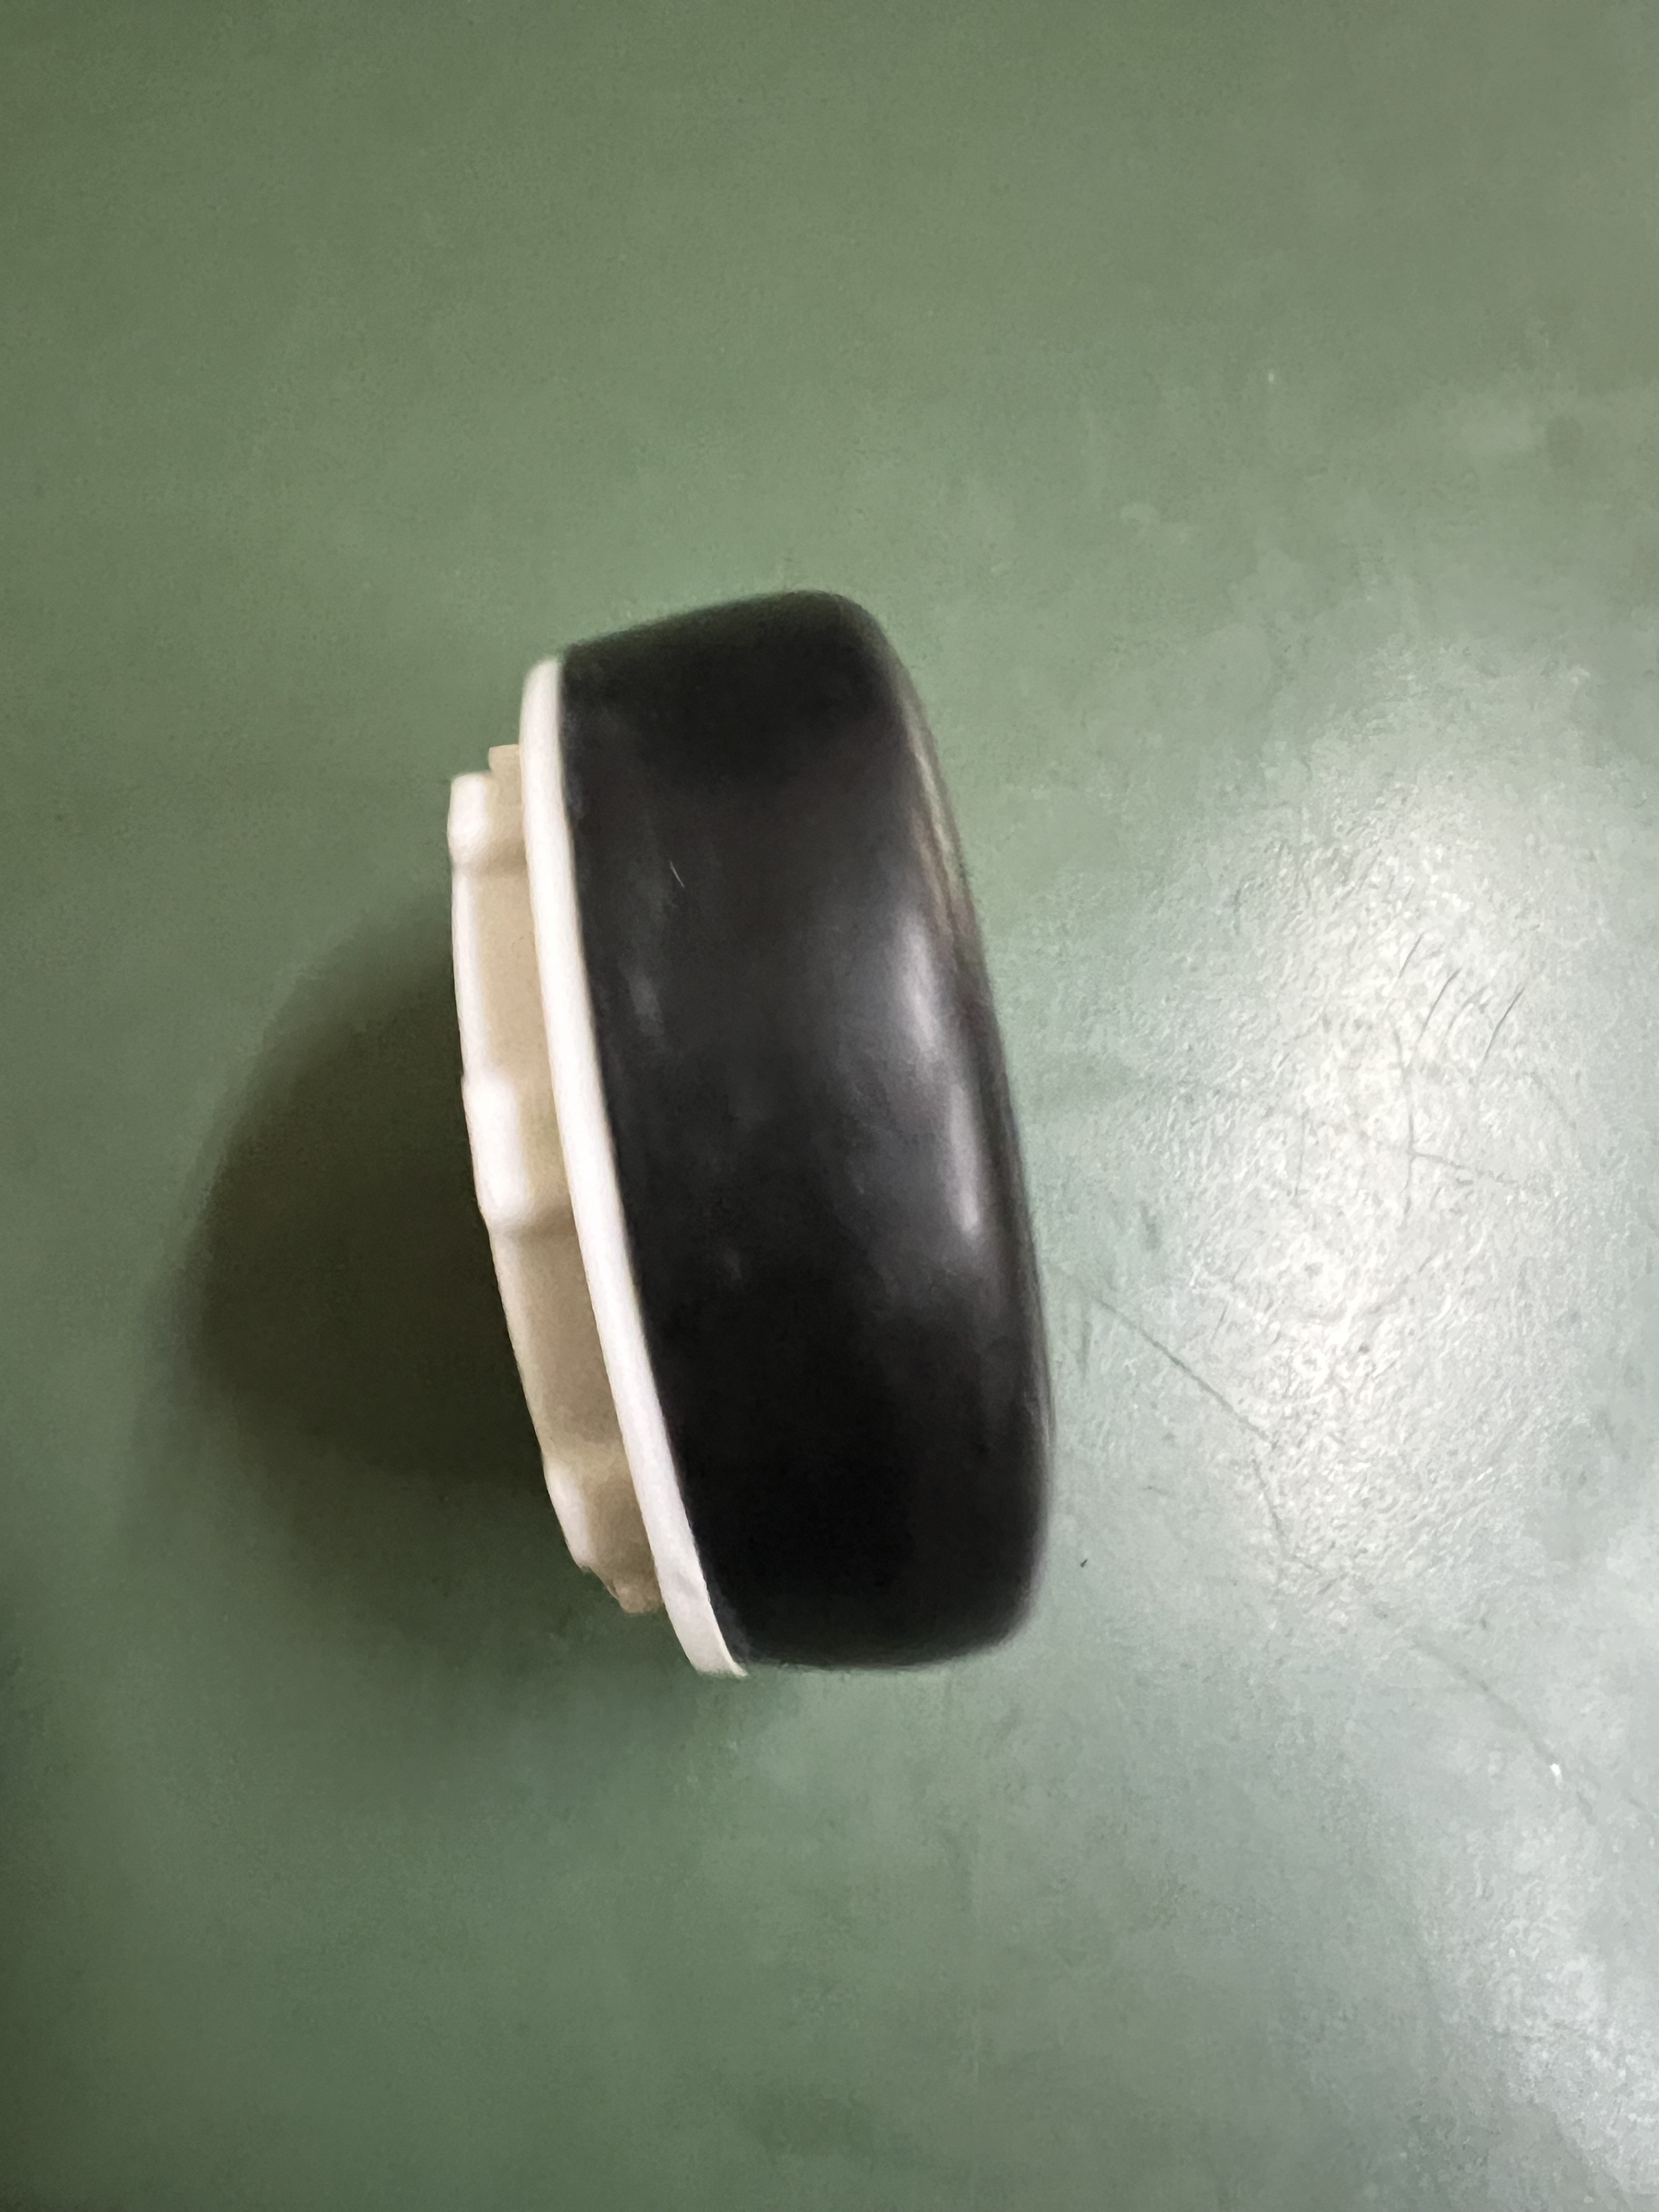lever: (420, 571, 1100, 1691)
